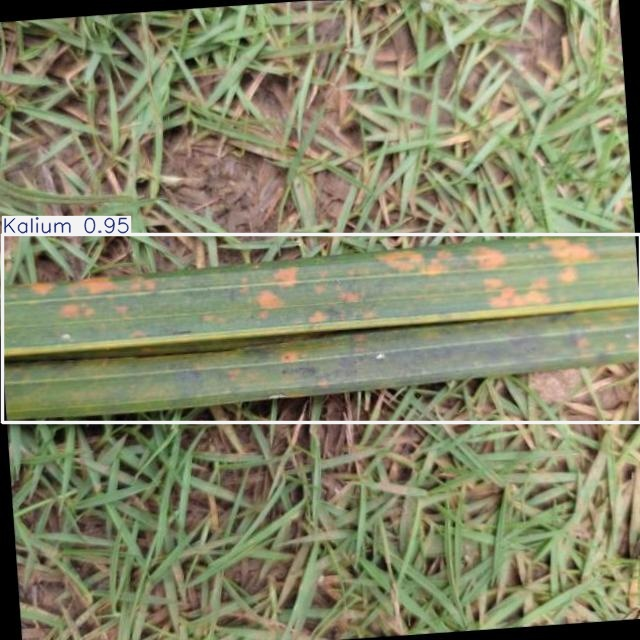Kalium: (3, 235, 640, 423)
